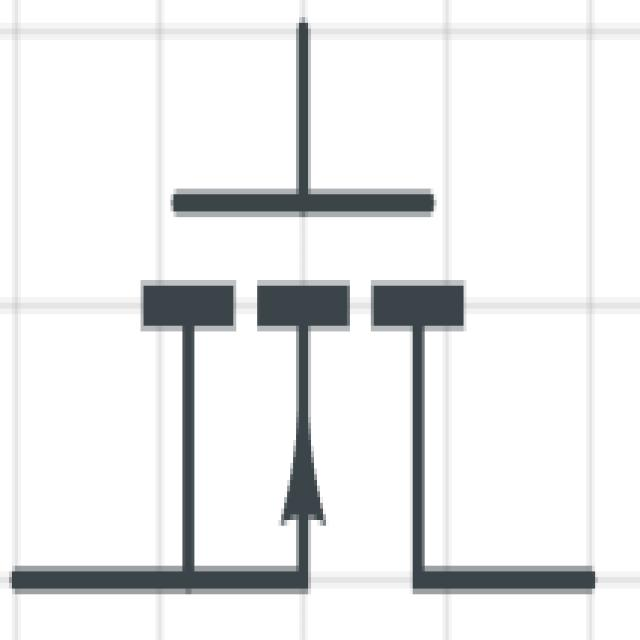nmos: (8, 20, 606, 628)
